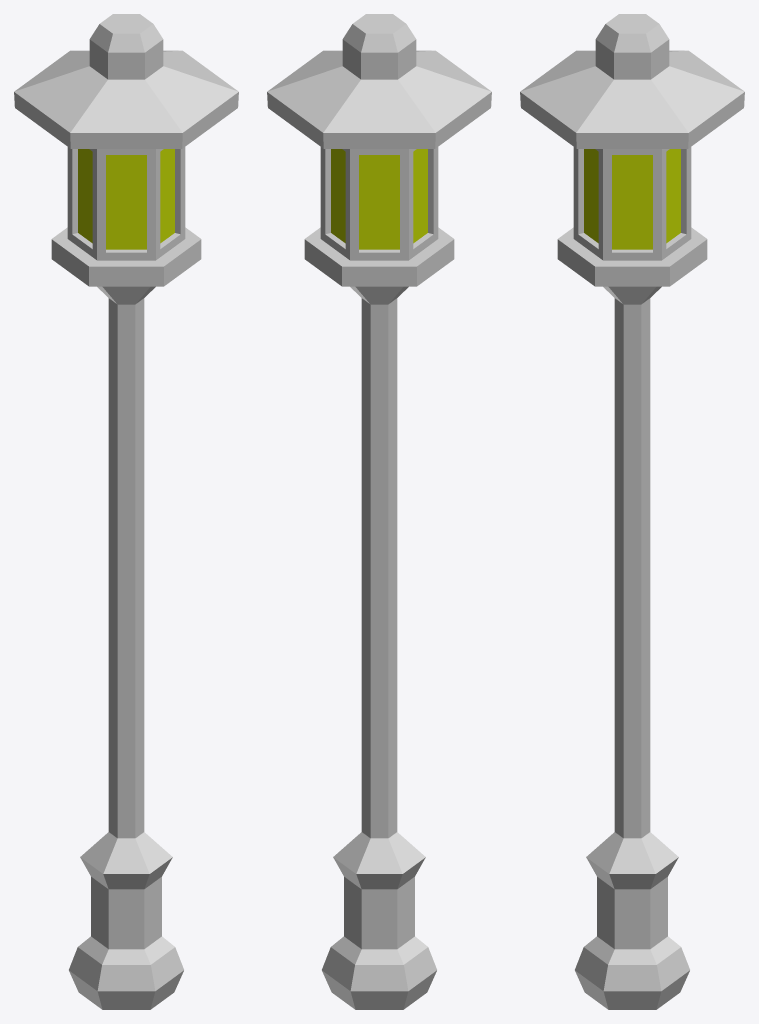
Rendered from light.fbx.
The picture shows the model from 3 angles, left to right: view 1: azimuth 30°, elevation 25°; view 2: azimuth 150°, elevation 25°; view 3: azimuth 270°, elevation 25°; orthographic projection.
Parts seen in each view (by area): view 1: Cylinder; view 2: Cylinder; view 3: Cylinder.
Boxes of the visible parts, x1,y1,x2,y2 form: Cylinder: [14, 14, 238, 1009]; Cylinder: [267, 14, 491, 1009]; Cylinder: [520, 14, 744, 1009].
Size of the model in its own units: 379 by 2079 by 438.
